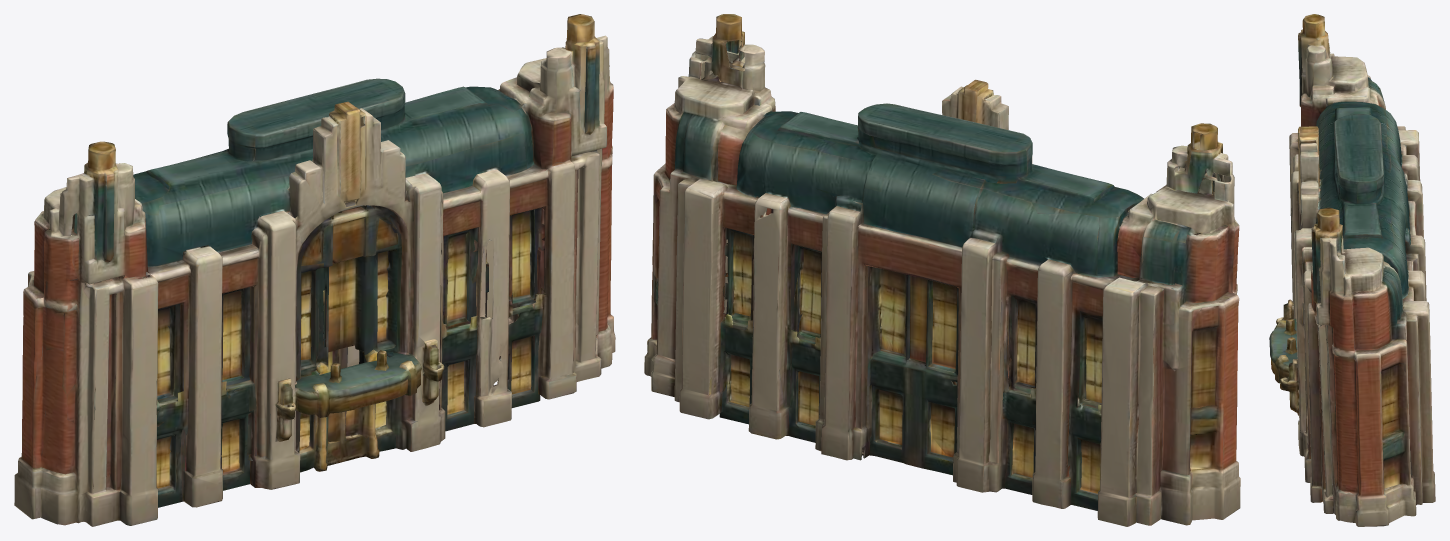
3 views of the same model, side by side, from view 1: azimuth 30°, elevation 25°; view 2: azimuth 150°, elevation 25°; view 3: azimuth 270°, elevation 25° (orthographic). The views are drawn at different scales.
Visible parts, largest first — view 1: expansion__finance_2__native_mobile; view 2: expansion__finance_2__native_mobile; view 3: expansion__finance_2__native_mobile.
Boxes of the visible parts, <box> form: expansion__finance_2__native_mobile: <box>14,14,615,526</box>; expansion__finance_2__native_mobile: <box>644,14,1240,526</box>; expansion__finance_2__native_mobile: <box>1269,14,1435,526</box>.
Size of the model in its own units: 1 by 0.6038 by 0.2951.
Materials: 1 (1 with a texture image).
